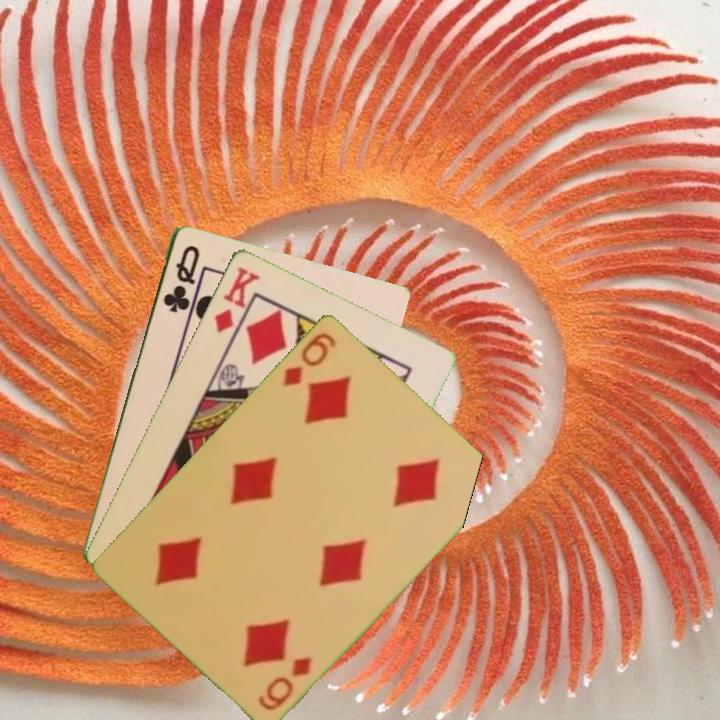6d: (254, 652, 315, 714), (279, 328, 339, 389)
Kd: (210, 262, 263, 335)
Qc: (159, 241, 202, 316)
